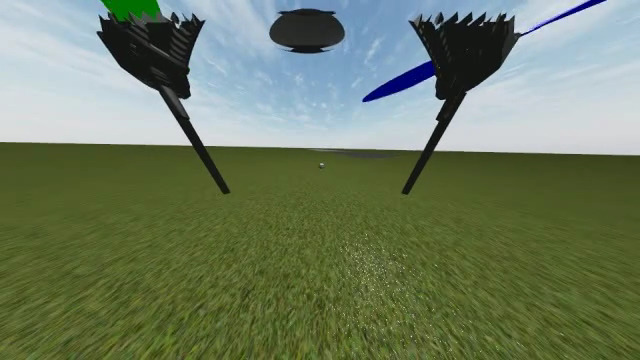Car: (318, 162, 326, 169)
